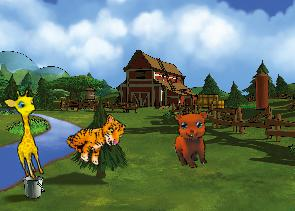bear: (166, 105, 221, 172)
giraffe: (1, 86, 55, 181)
tiger: (62, 102, 129, 172)
